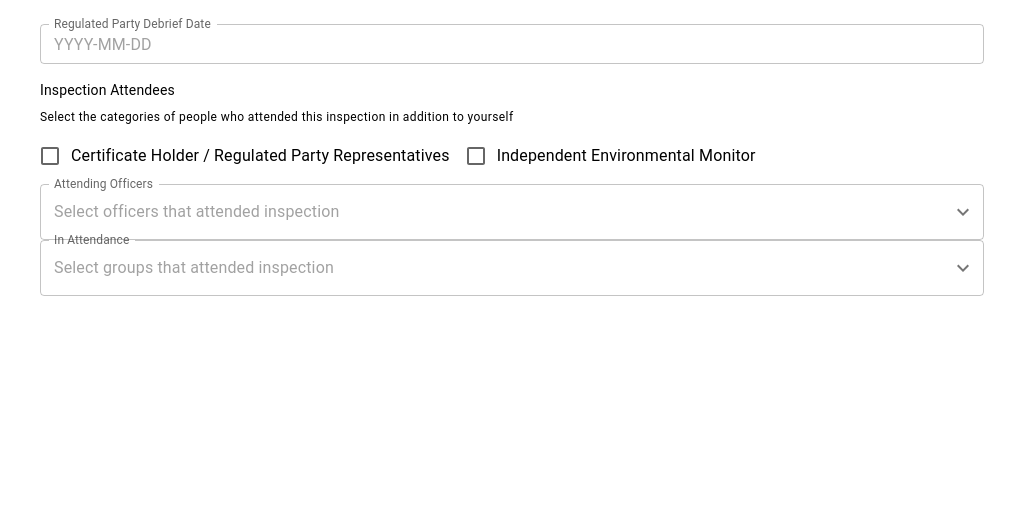
Test: InspectionFormRight Component › displays dynamic fields when agency attendance option is selected
The image size is (1024, 511).
What coordinates should you click on to do the following:
click the dropdown named "inAttendance"
I would click on:
 (497, 268)
Its box is x1=49 y1=249 x2=945 y2=287.
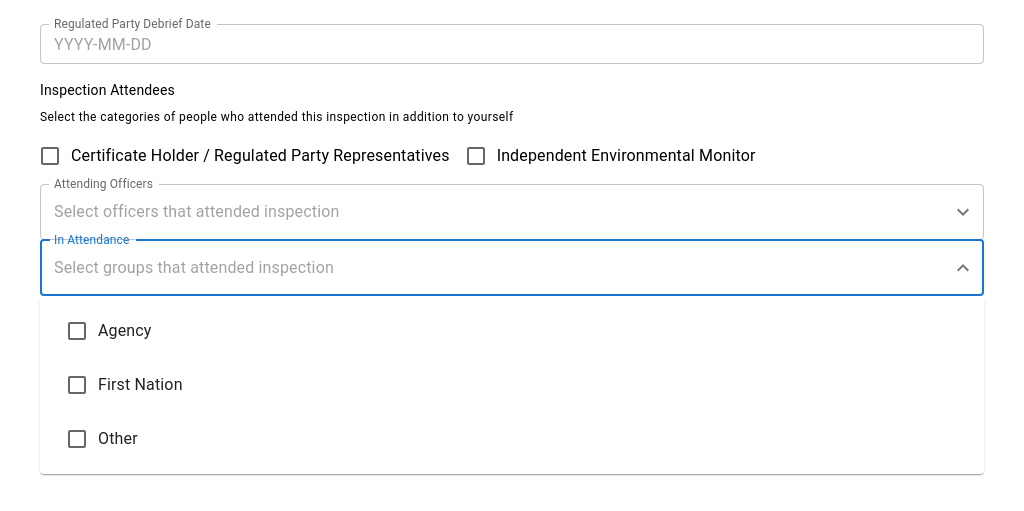
What coordinates should you click on to do the following:
click the text "Agency"
I would click on:
 (109, 331)
Its box is x1=65 y1=319 x2=152 y2=343.
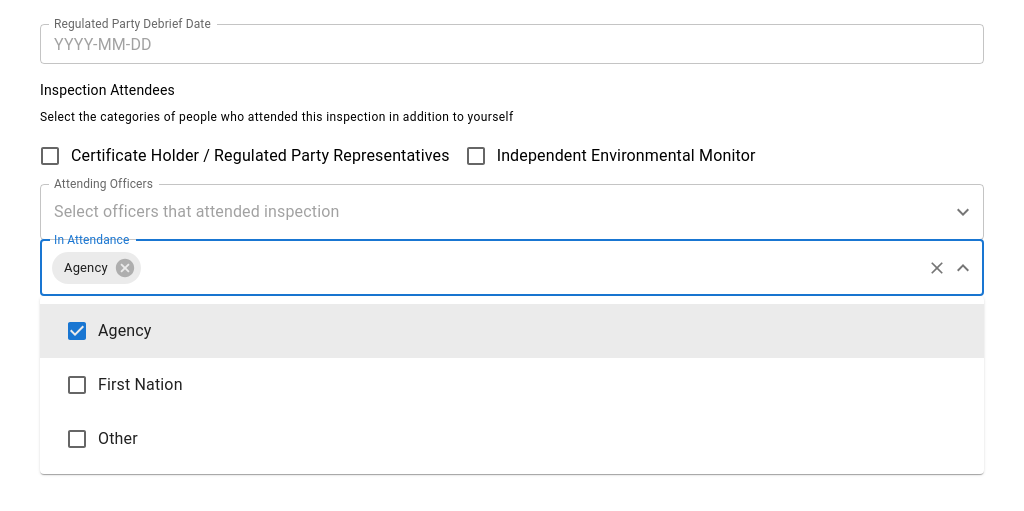
What coordinates should you click on to do the following:
click the element that starts with "Regulated Party Debrief Date"
I would click on:
 (8, 8)
Its box is x1=8 y1=8 x2=1016 y2=368.
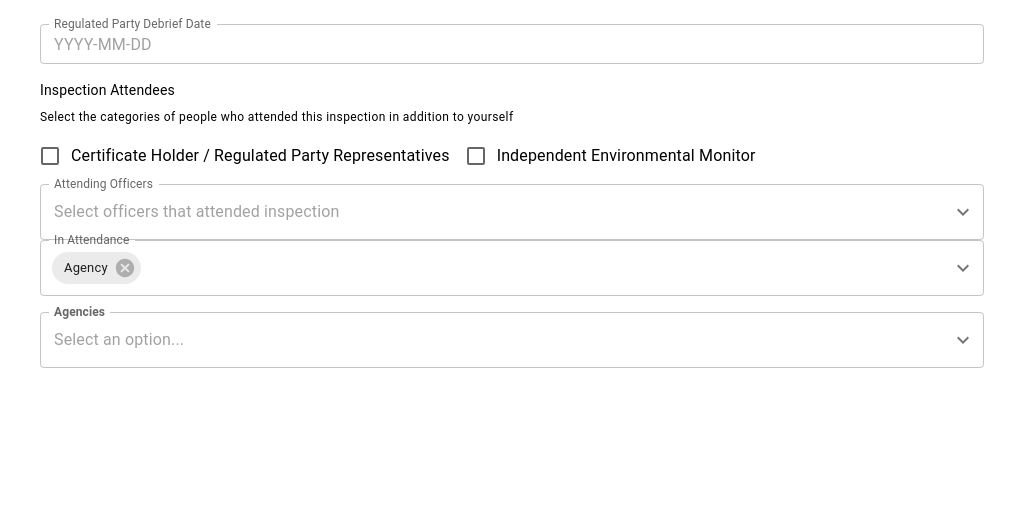
Expected: the dropdown named "agencies" is shown
Ensure these fields can select multiple options
What coordinates should you click on to do the following:
click the dropdown named "agencies"
I would click on:
 (497, 340)
Its box is x1=49 y1=321 x2=945 y2=359.
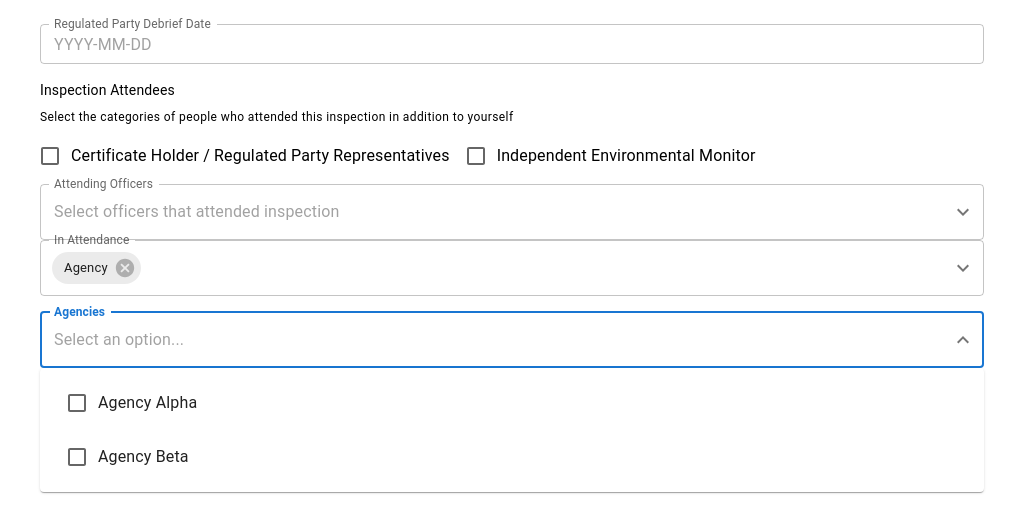
What coordinates should you click on to do the following:
click the text "Agency Alpha"
I would click on:
 (131, 403)
Its box is x1=65 y1=391 x2=197 y2=415.
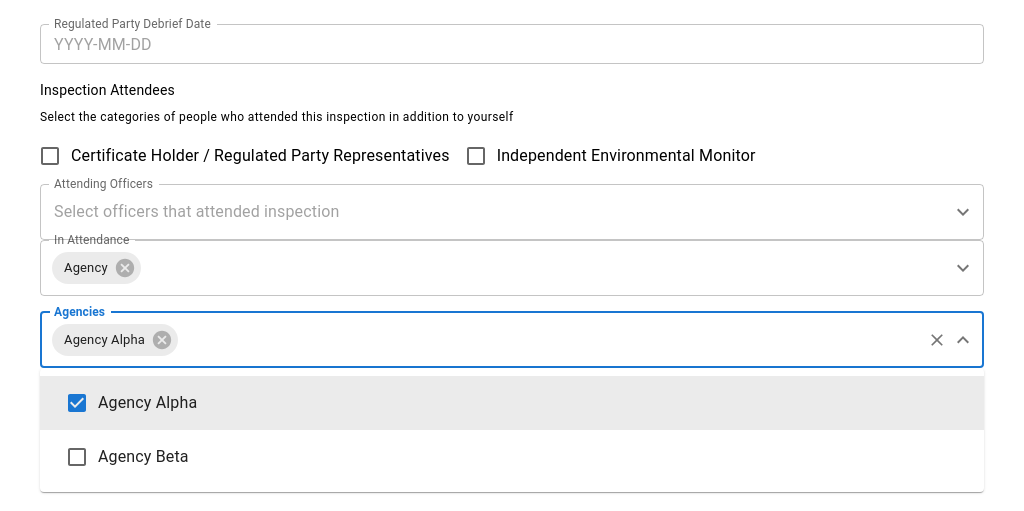
Expected: the button "Agency Alpha" is shown, x1=52 y1=324 x2=178 y2=356
